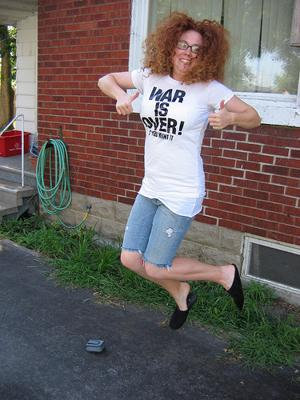person: (96, 14, 260, 327)
